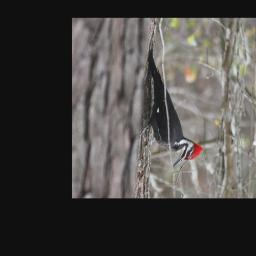Woodpecker: (139, 44, 205, 167)
